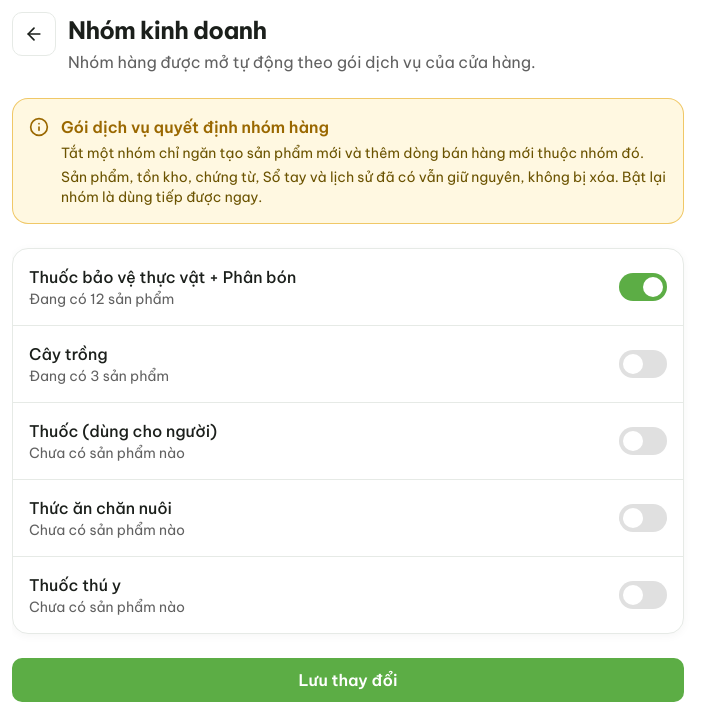
Test: BusinessGroupSettings › saves the toggled set and confirms success
Click the switch named "Cây trồng": (643, 364) [619,350,667,378]
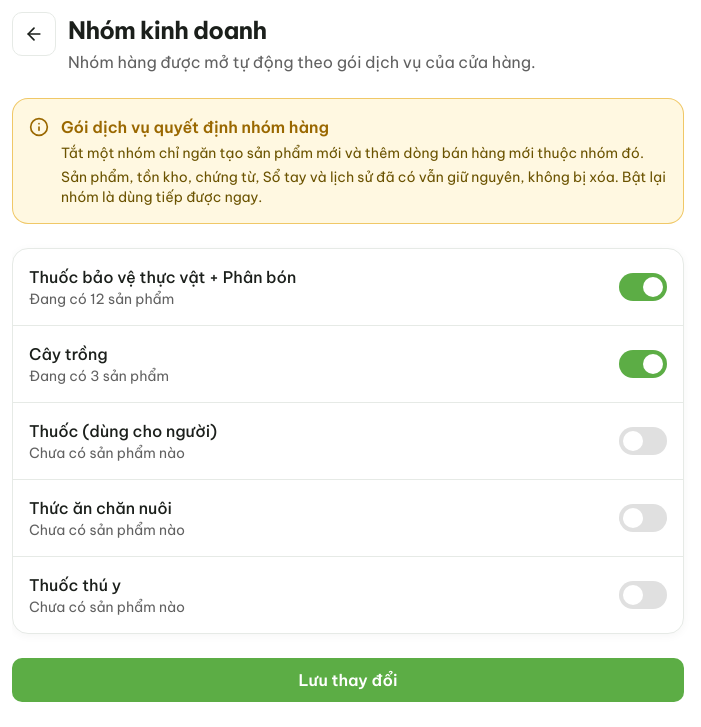
Now the switch named "Cây trồng" is checked, box [619,350,667,378]
Click the button "Lưu thay đổi": (348, 680) [12,658,684,702]
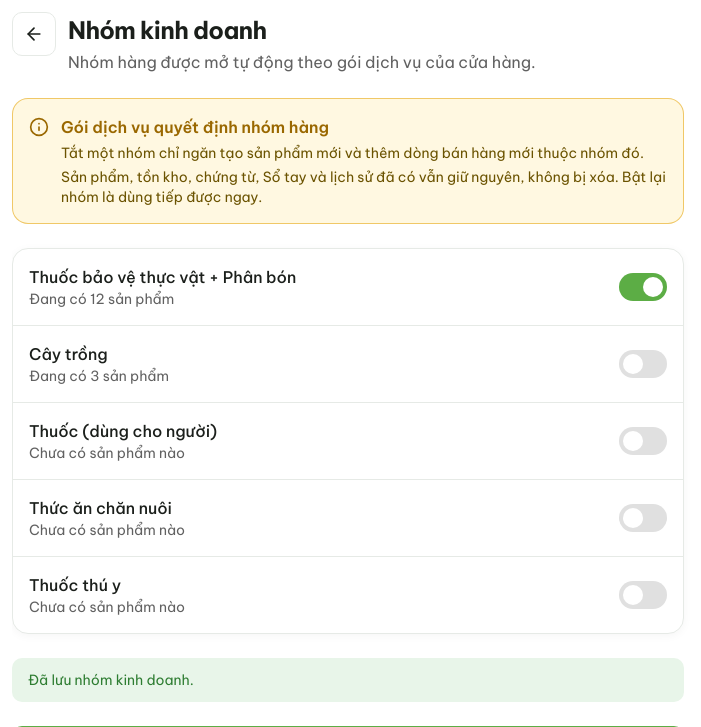
Now the text "Đã lưu nhóm kinh doanh." is shown, box [12,658,684,702]
